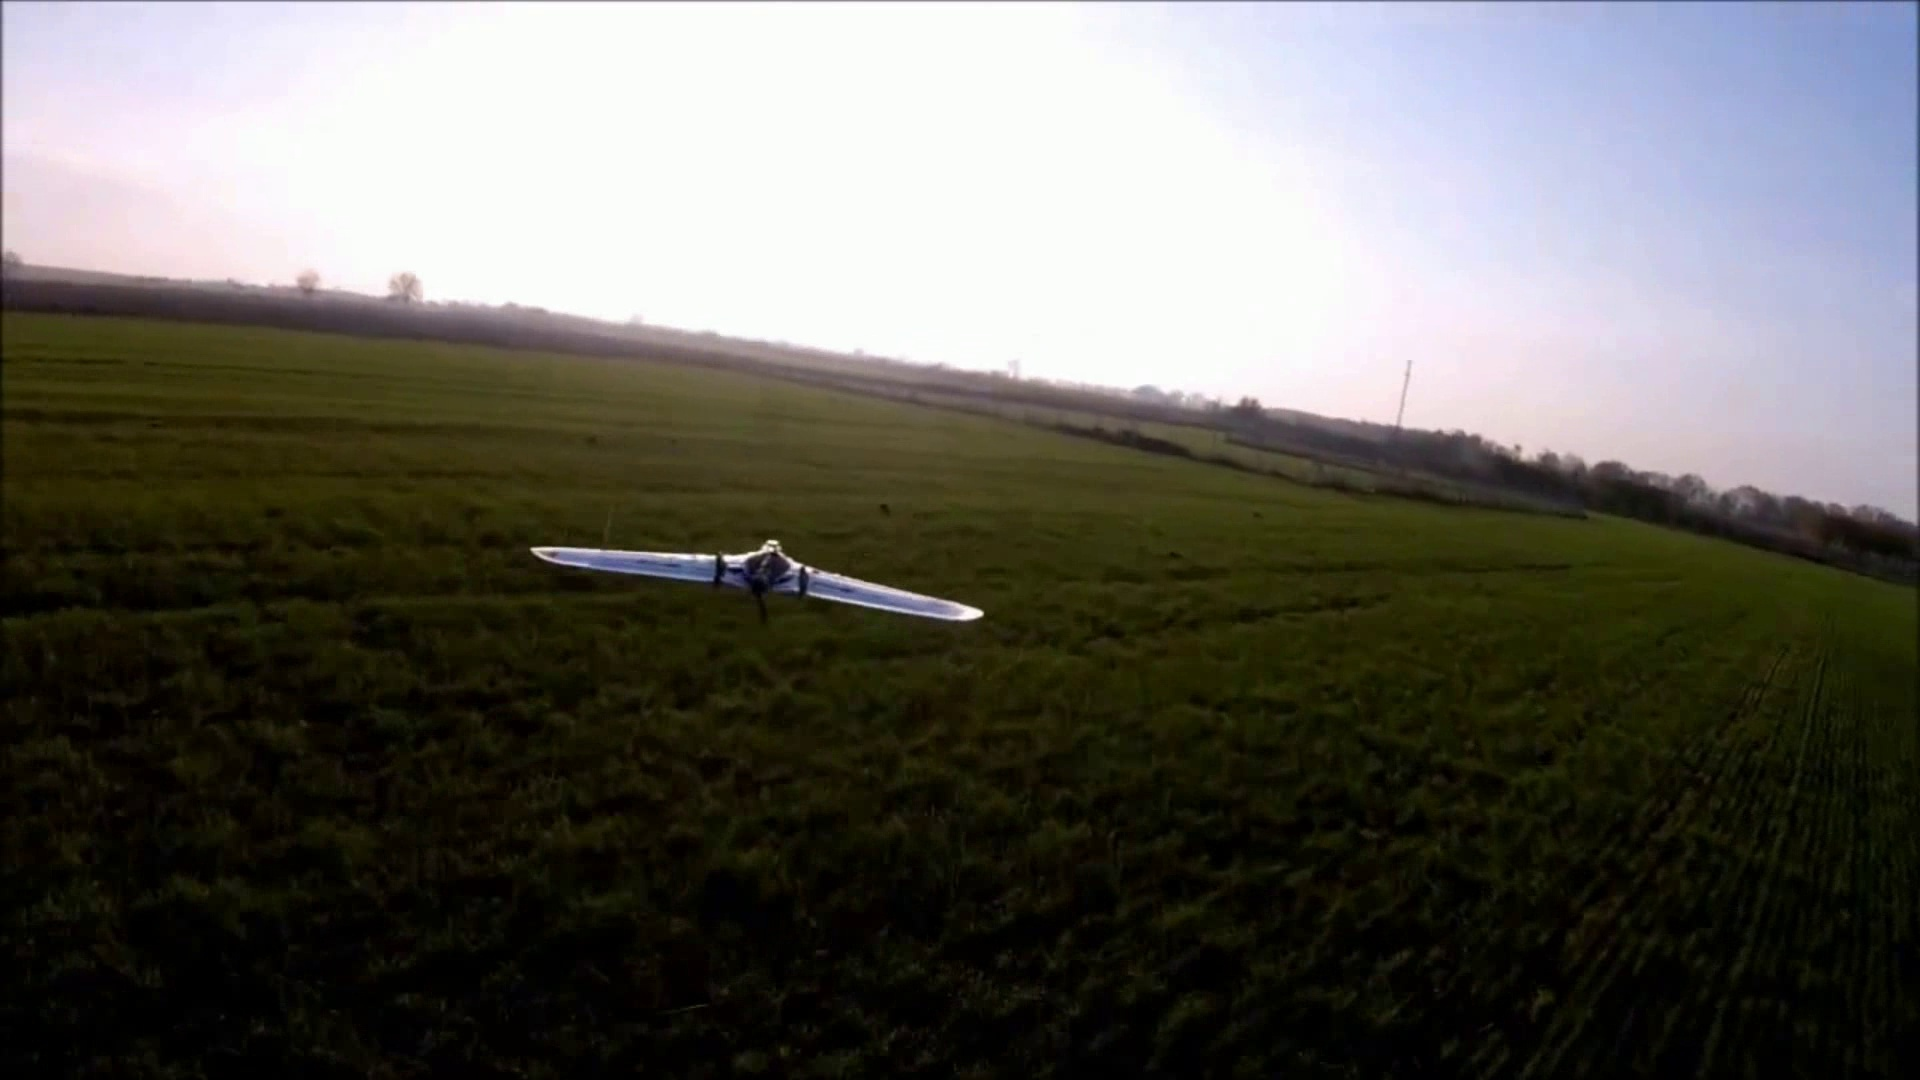airplane: (529, 535, 982, 626)
